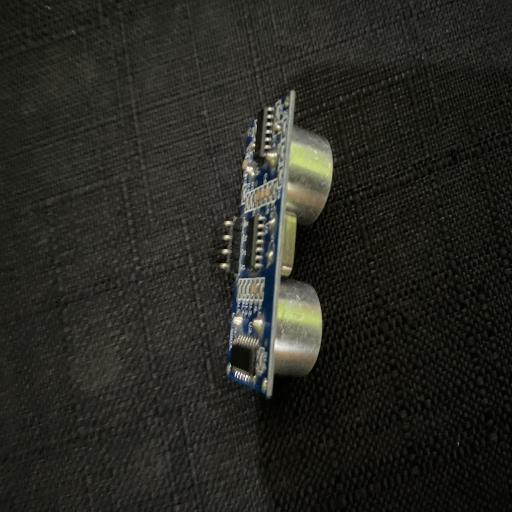Ultrasonic Sensor: (210, 87, 332, 398)
